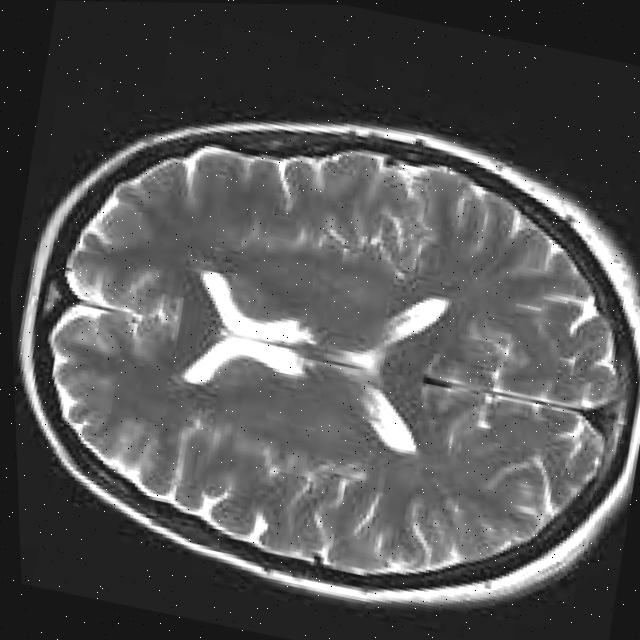NoTumor: (2, 47, 640, 640)
